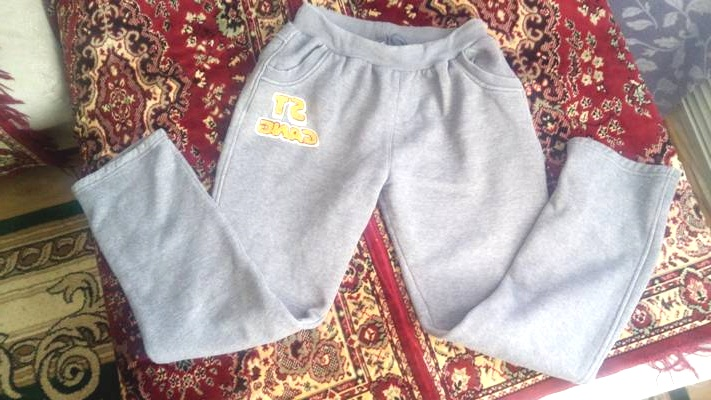Pants: (67, 20, 671, 388)
